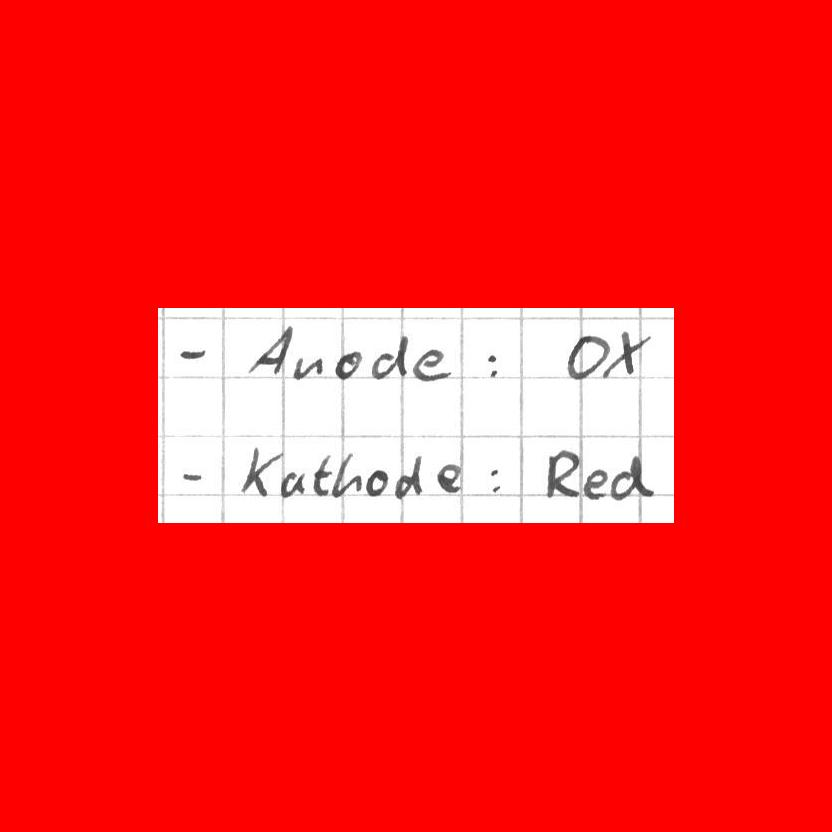Char: (248, 323, 291, 377), (563, 332, 608, 382), (609, 453, 654, 502), (545, 446, 581, 500), (241, 444, 279, 495), (371, 332, 409, 380), (610, 330, 648, 376), (411, 347, 454, 383), (393, 451, 424, 500), (332, 450, 360, 498), (435, 461, 464, 494), (583, 467, 609, 501), (311, 454, 332, 496), (334, 349, 362, 380), (291, 355, 323, 382), (280, 471, 306, 497), (366, 469, 389, 497), (178, 342, 207, 364), (483, 349, 502, 378), (178, 465, 203, 487), (486, 462, 502, 493)
